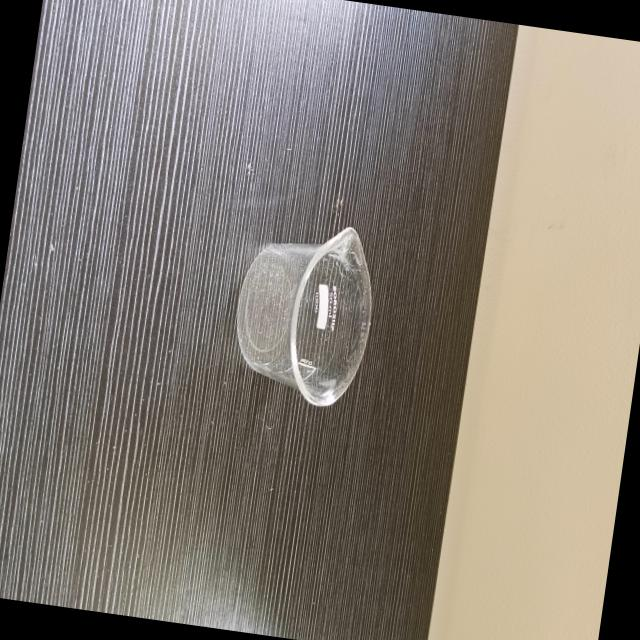beaker: (218, 203, 386, 417)
